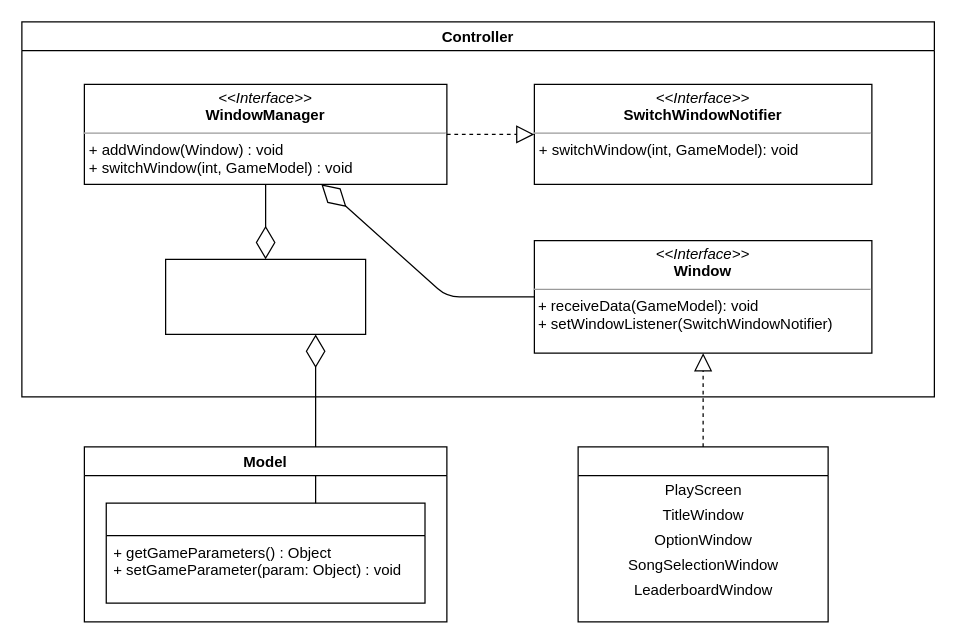
The diagram is 956 pixels wide and 644 high, and some of its shapes have lost their labels. The shapes that lost their labels are listed below. From the top down, each one's box as (x1, y1, x2, y2) in pixels, then its label:
(164, 258, 366, 334): DukeMania + setupWindows() : void
(105, 502, 425, 603): GameModel
(577, 446, 828, 622): Views
